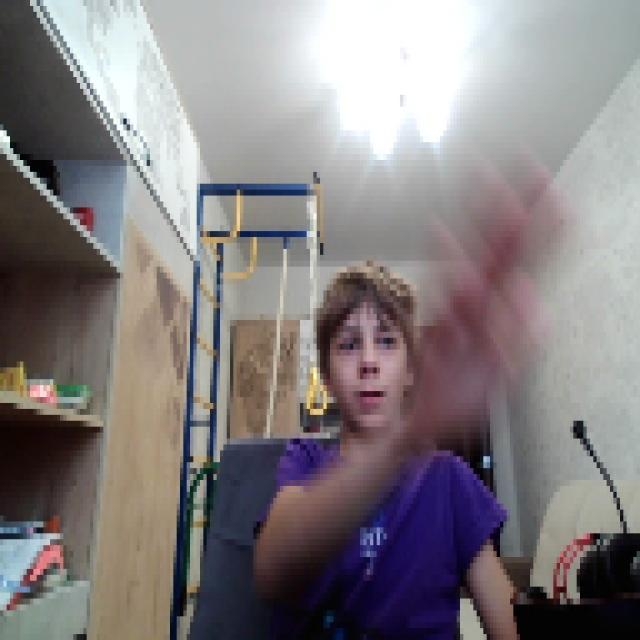hand: (400, 148, 560, 433)
